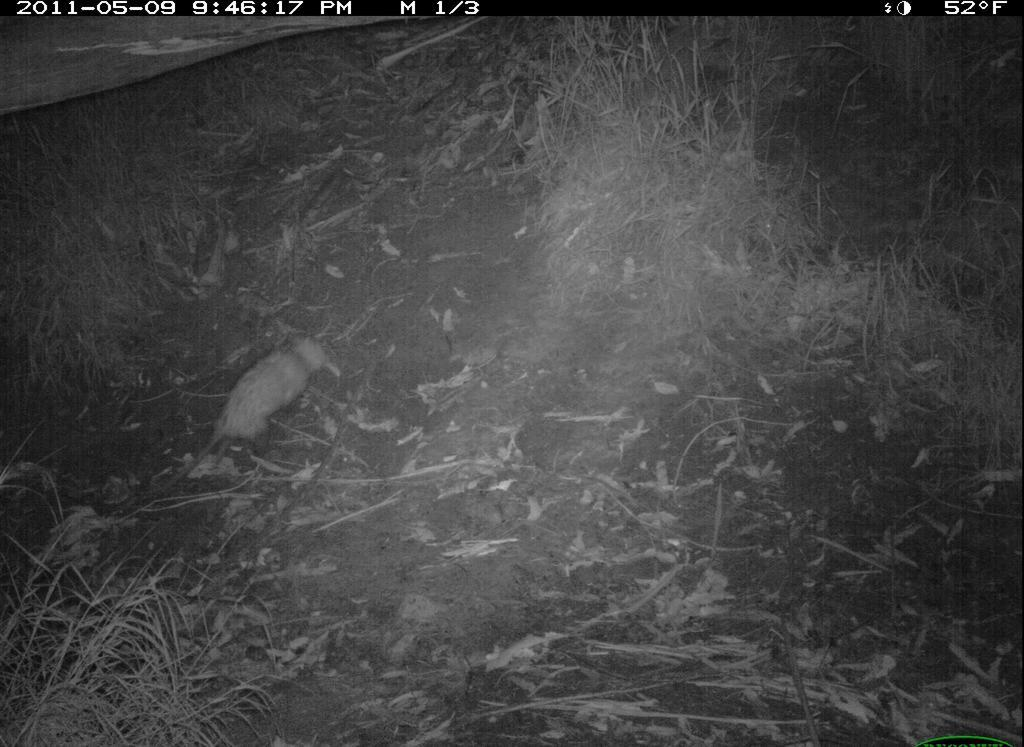opossum: (150, 327, 338, 488)
